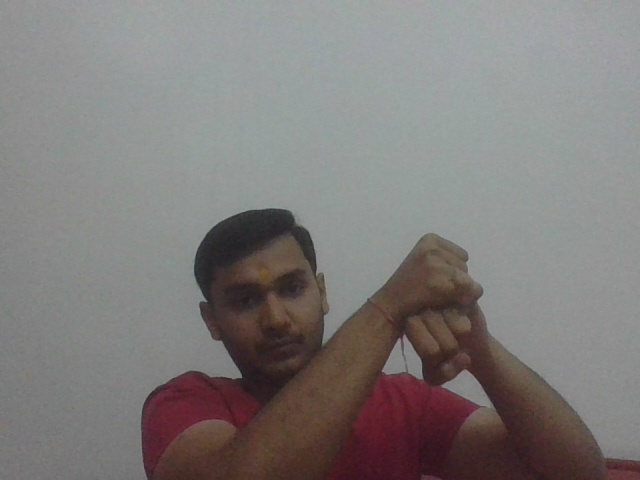S: (392, 226, 500, 392)
